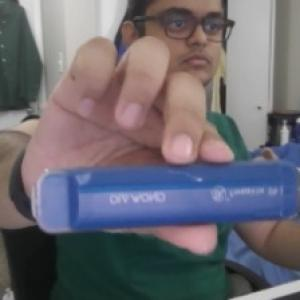Diamond-E-Ciggirate: (24, 156, 300, 239)
